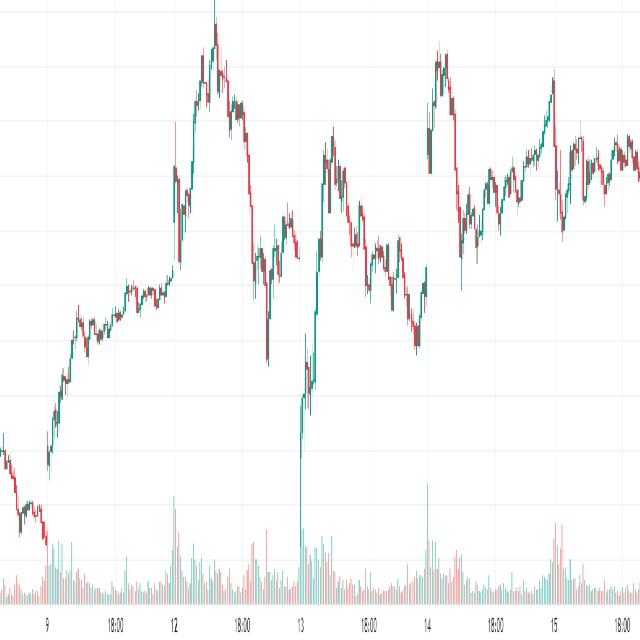Ascending-Triangle: (453, 158, 547, 339), (551, 131, 640, 255)
Channel-down: (307, 108, 436, 382)
Head-Shoulders: (188, 0, 254, 264)
